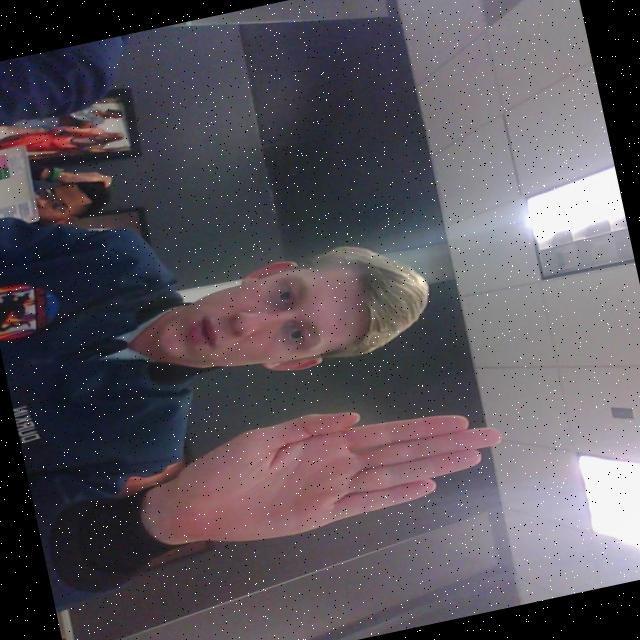paper: (120, 370, 526, 574)
